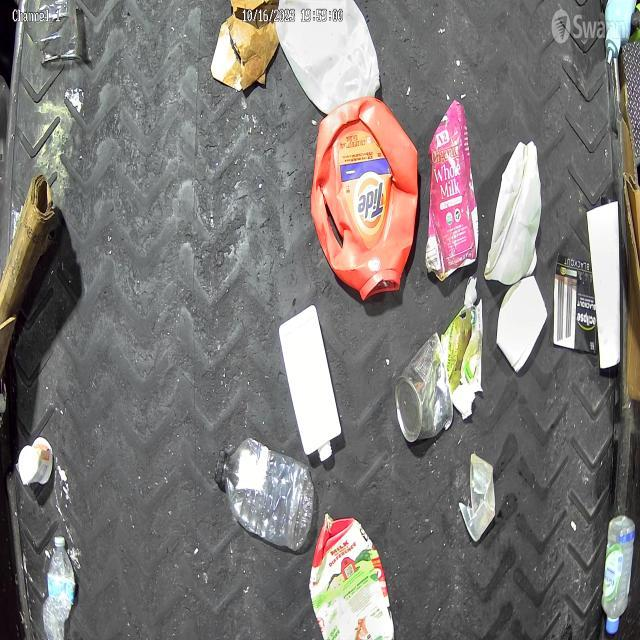can: (396, 332, 456, 452)
milk_jug: (276, 0, 386, 115), (484, 138, 544, 287)
non_white_jug: (308, 86, 418, 303)
plastic_bottle: (216, 435, 324, 552), (598, 512, 640, 640), (38, 533, 78, 640)
